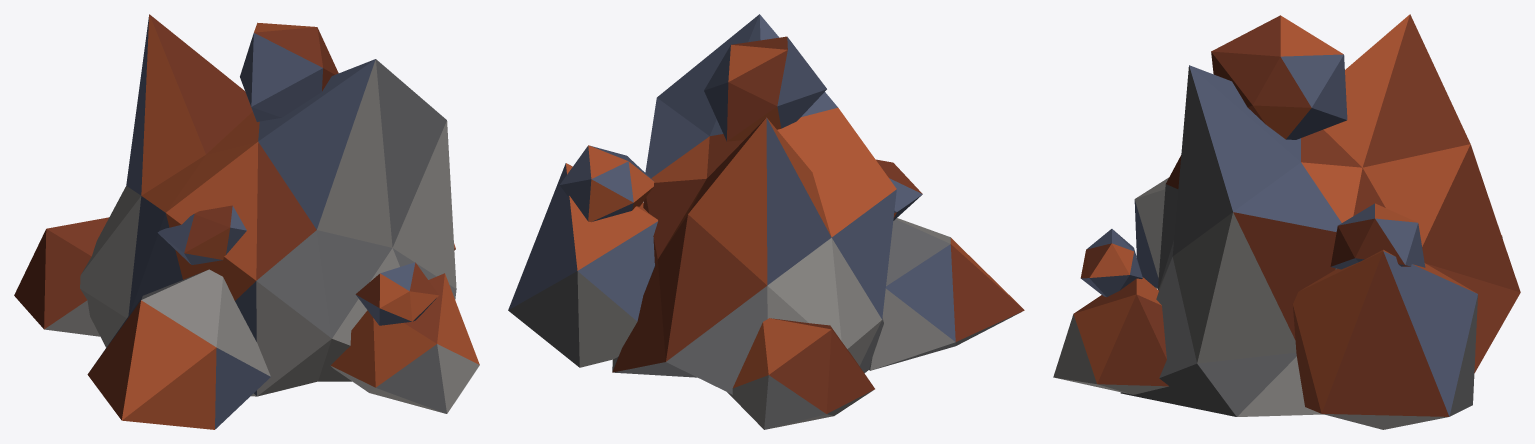
Rendered from rock_c.glb.
3 renders of one model, left to right at view 1: azimuth 30°, elevation 25°; view 2: azimuth 150°, elevation 25°; view 3: azimuth 270°, elevation 25°, orthographic. The views are drawn at different scales.
Visible parts, largest first — view 1: iron_ore_c; view 2: iron_ore_c; view 3: iron_ore_c.
Part boxes in pixels (x1=…): iron_ore_c: x1=14, y1=14, x2=479, y2=429; iron_ore_c: x1=508, y1=14, x2=1024, y2=429; iron_ore_c: x1=1053, y1=14, x2=1520, y2=429.
Size of the model in its own units: 1.21 by 0.8648 by 1.14.
